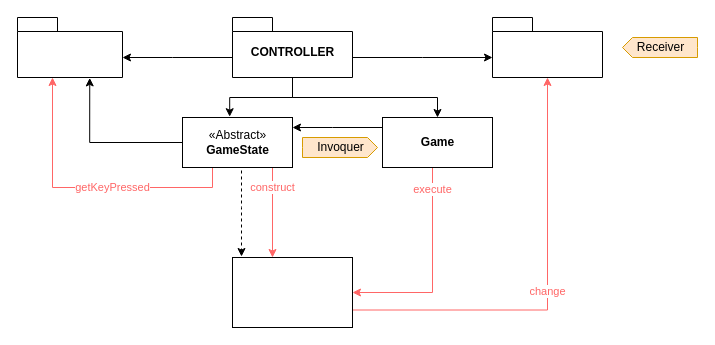
Some shapes in this 715 by 345 pixel diagram are drawn without their labels. The shapes that lost their labels are listed below. From the top down, each one's centre as x and y in pixels, then its label:
At point 69,47: "VIEW".
At point 547,47: "MODEL".
At point 292,292: "«Interface» Command execute()".
